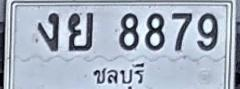7: (171, 12, 192, 51)
8: (118, 12, 138, 50), (145, 12, 165, 50)
9: (197, 12, 218, 50)
A07: (37, 12, 59, 51)
A34: (68, 12, 93, 51)
CBI: (87, 61, 146, 88)
